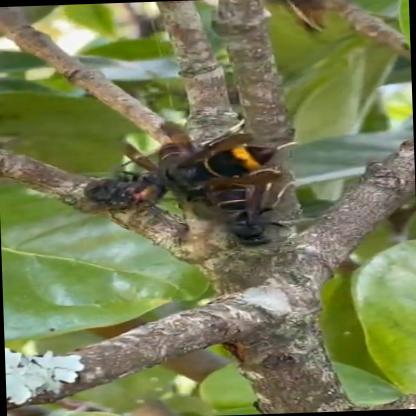bee: (50, 81, 313, 276)
